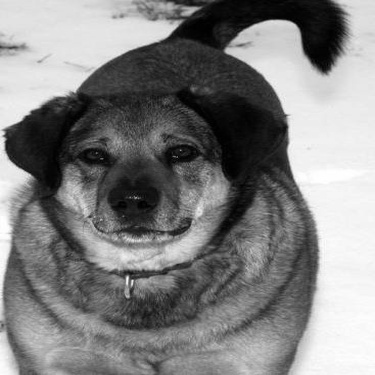dog: (1, 4, 349, 373)
